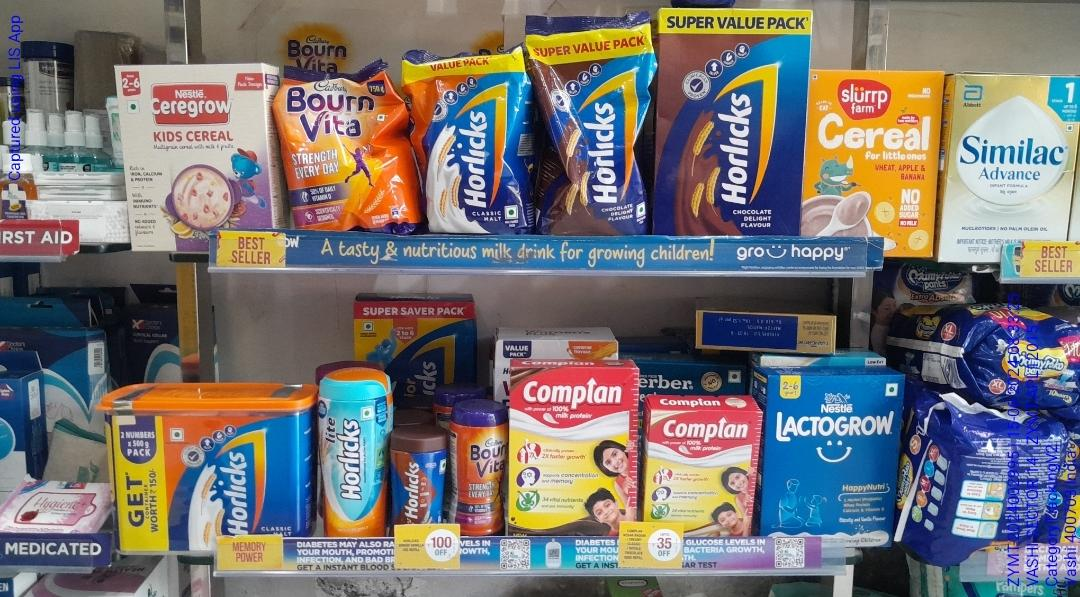BOURN_VITA_200_G_JAR: (450, 404, 504, 537)
BOURN_VITA_750_G_POUCH: (278, 70, 407, 231)
COMPLAN_CHOCOLATE_500_GMS_PACK: (511, 362, 640, 520)
COMPLAN_KESAR_BADAM_200_GMS_PACK: (649, 408, 758, 528)
HORLICKS_LITE_REGULAR_MALT_500_GM_JAR: (317, 365, 386, 538)
HORLICK_CHOCOLATE_200_G_JAR: (390, 430, 444, 524)
HORLICK_CLASSIC_MALT_750_G_POUCH: (419, 52, 533, 231)
HORLICK_MALT_1_KG_CONTAINER: (104, 394, 304, 533)
